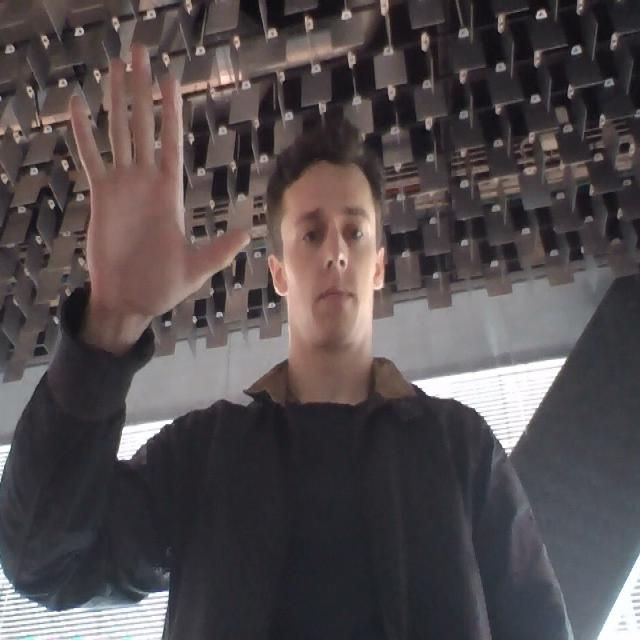backward: (48, 41, 250, 333)
